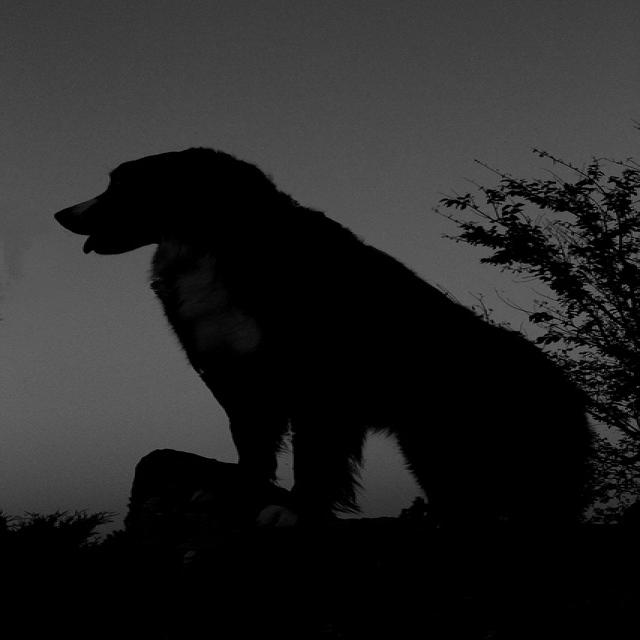dog: (24, 124, 640, 640)
